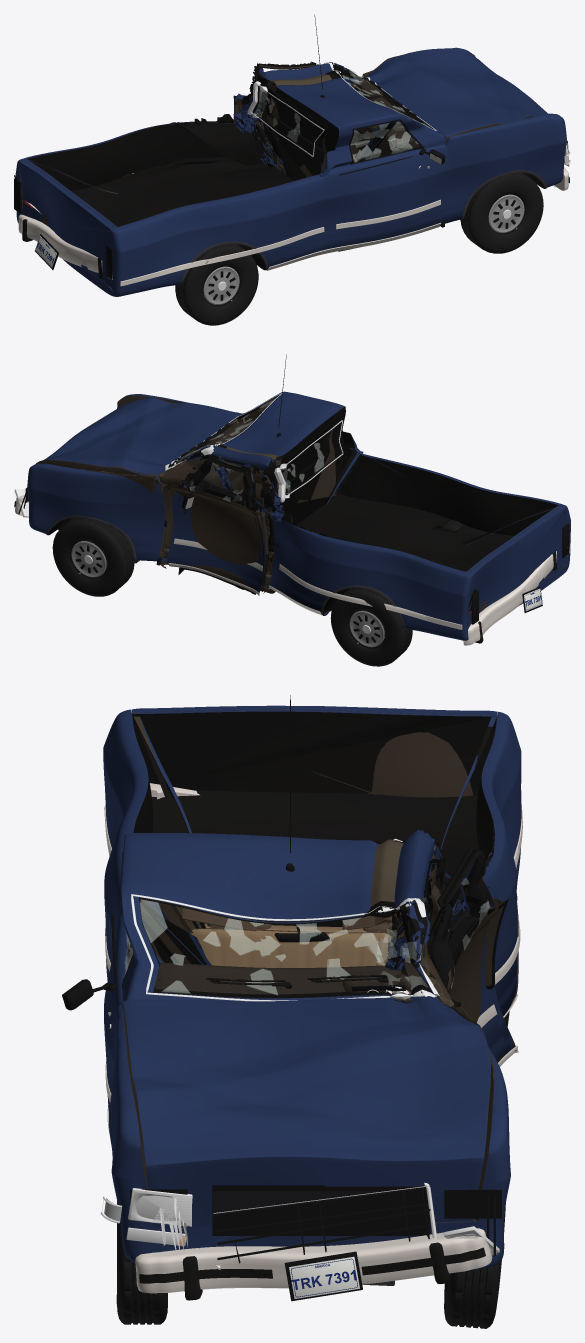
The model's file is pickup87_side_d2.glb.
The picture shows the model from 3 angles, top to bottom: view 1: azimuth 30°, elevation 25°; view 2: azimuth 150°, elevation 25°; view 3: azimuth 270°, elevation 25°; orthographic projection. The views are drawn at different scales.
Parts seen in each view (by area): view 1: Body, Hood, Wheel_FR_mesh, Wheel_RR_mesh, Tailgate, Door_FR, Trim, Glass, Interior, Trim_FR, Bumper_R, Glass_FR (+2 smaller); view 2: Body, Hood, Door_FL, Wheel_FL_mesh, Tailgate, Wheel_RL_mesh, Trim, Glass, Bumper_R, Trim_FL, Ends, Interior (+1 smaller); view 3: Body, Hood, Ends, Interior, Bumper_F, Glass, Tailgate, Door_FL, Wheel_FL_mesh, Wheel_FR_mesh, Glass_FL, Trim (+3 smaller).
Part boxes in pixels (left/top/right/bottom): Body: left=15, top=52, right=566, bottom=296; Hood: left=363, top=47, right=547, bottom=142; Wheel_FR_mesh: left=460, top=172, right=543, bottom=253; Wheel_RR_mesh: left=175, top=244, right=258, bottom=325; Tailgate: left=19, top=160, right=114, bottom=287; Door_FR: left=333, top=121, right=443, bottom=247; Trim: left=120, top=14, right=546, bottom=286; Glass: left=247, top=62, right=436, bottom=156; Interior: left=350, top=79, right=417, bottom=161; Trim_FR: left=332, top=119, right=445, bottom=252; Bumper_R: left=18, top=214, right=102, bottom=278; Glass_FR: left=350, top=121, right=421, bottom=164; Body: left=27, top=391, right=570, bottom=640; Hood: left=36, top=397, right=241, bottom=477; Door_FL: left=166, top=457, right=268, bottom=594; Wheel_FL_mesh: left=52, top=518, right=134, bottom=596; Tailgate: left=469, top=506, right=565, bottom=626; Wheel_RL_mesh: left=330, top=588, right=412, bottom=666; Trim: left=46, top=354, right=494, bottom=629; Glass: left=165, top=393, right=343, bottom=502; Bumper_R: left=463, top=551, right=556, bottom=645; Trim_FL: left=168, top=458, right=262, bottom=595; Ends: left=14, top=487, right=569, bottom=624; Interior: left=174, top=422, right=254, bottom=492; Body: left=103, top=709, right=521, bottom=1269; Hood: left=122, top=996, right=490, bottom=1230; Ends: left=100, top=1182, right=501, bottom=1301; Interior: left=154, top=907, right=428, bottom=994; Bumper_F: left=135, top=1228, right=491, bottom=1300; Glass: left=131, top=838, right=439, bottom=1001; Tailgate: left=132, top=705, right=497, bottom=797; Door_FL: left=427, top=846, right=516, bottom=1062; Wheel_FL_mesh: left=444, top=1203, right=505, bottom=1328; Wheel_FR_mesh: left=116, top=1200, right=167, bottom=1324; Glass_FL: left=427, top=850, right=489, bottom=988; Trim: left=104, top=695, right=522, bottom=1017.
Bounding box in the file's own units: 5.17 × 2.44 × 2.12.
Materials: 34 (5 with a texture image).
